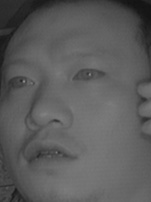eye: (69, 62, 106, 87), (6, 70, 40, 93)
mouth: (22, 133, 80, 170)
